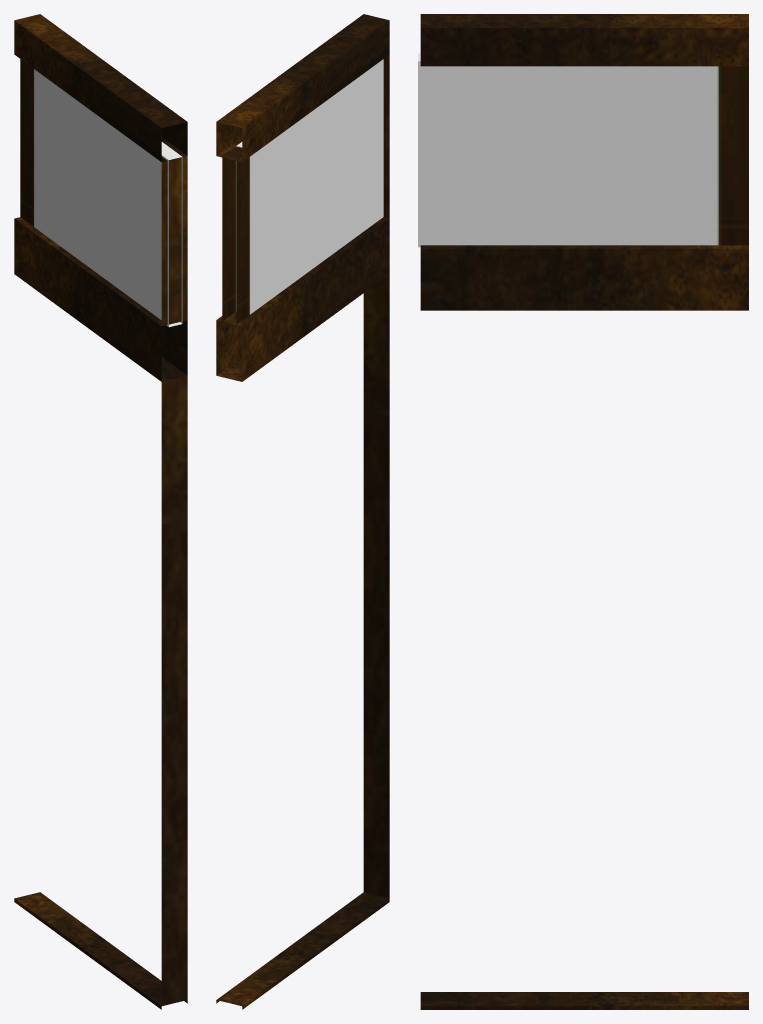
Rendered from Tyape_C_door_Right.fbx.
3 renders of one model, left to right at view 1: azimuth 30°, elevation 25°; view 2: azimuth 150°, elevation 25°; view 3: azimuth 270°, elevation 25°, orthographic. The views are drawn at different scales.
Parts seen in each view (by area): view 1: Tyape_C_door_Right; view 2: Tyape_C_door_Right; view 3: Tyape_C_door_Right.
Part boxes in pixels (x1=…): Tyape_C_door_Right: x1=14, y1=14, x2=187, y2=1009; Tyape_C_door_Right: x1=216, y1=14, x2=389, y2=1009; Tyape_C_door_Right: x1=418, y1=14, x2=748, y2=1009.
Bounding box in the file's own units: 7.42 × 241 × 73.69.
